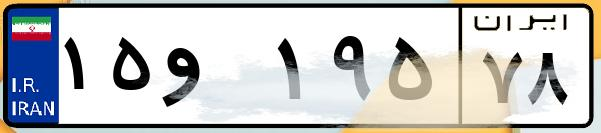1: (270, 28, 330, 110), (57, 26, 110, 100)
5: (385, 28, 445, 110), (110, 28, 158, 98)
7: (475, 38, 525, 113)
8: (525, 38, 570, 115)
9: (330, 28, 385, 110)
و: (158, 20, 270, 120)
